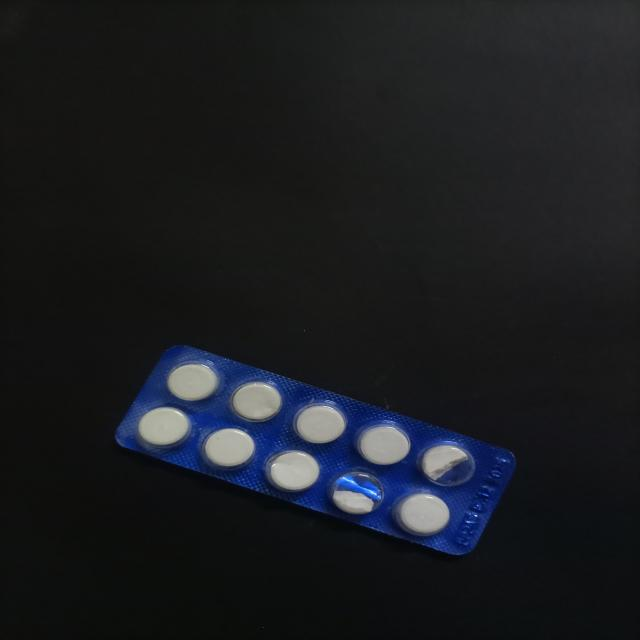defect: (413, 438, 479, 488), (326, 469, 388, 518)
